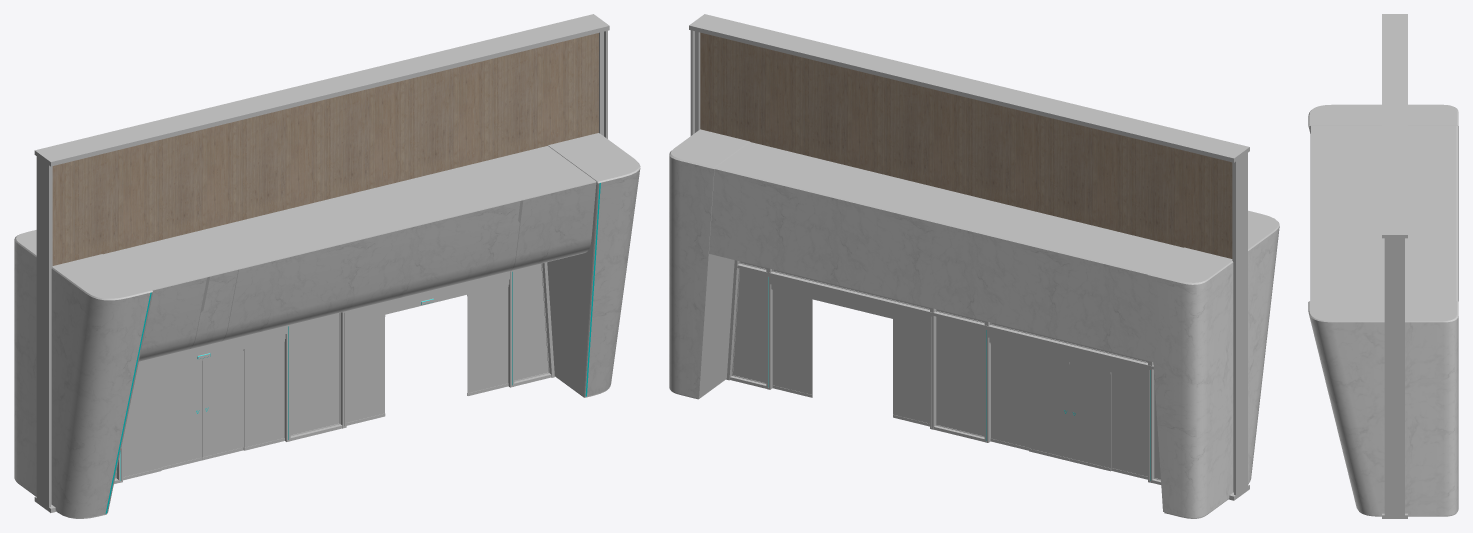
3 renders of one model, left to right at view 1: azimuth 30°, elevation 25°; view 2: azimuth 150°, elevation 25°; view 3: azimuth 270°, elevation 25°, orthographic. The views are drawn at different scales.
Parts seen in each view (by area): view 1: M_W_010_b_20x12, M_W_010_b_20x12_glass, M_W_010_b_20x12_Door_b, M_W_010_b_20x12_Door_a; view 2: M_W_010_b_20x12, M_W_010_b_20x12_glass, M_W_010_b_20x12_Door_a, M_W_010_b_20x12_Door_b; view 3: M_W_010_b_20x12.
Boxes of the visible parts, box(x1,y1,x2,y2) form: M_W_010_b_20x12: box(14, 14, 640, 518); M_W_010_b_20x12_glass: box(115, 264, 548, 480); M_W_010_b_20x12_Door_b: box(202, 349, 243, 460); M_W_010_b_20x12_Door_a: box(161, 359, 202, 470); M_W_010_b_20x12: box(669, 14, 1279, 518); M_W_010_b_20x12_glass: box(733, 261, 1160, 479); M_W_010_b_20x12_Door_a: box(1070, 362, 1111, 471); M_W_010_b_20x12_Door_b: box(1029, 352, 1069, 461); M_W_010_b_20x12: box(1308, 14, 1458, 518).
Bounding box in the file's own units: 20 × 12.01 × 5.75.
